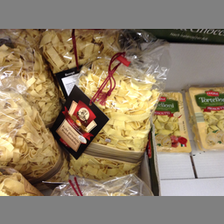pasta: (65, 51, 162, 177), (186, 84, 223, 152)
